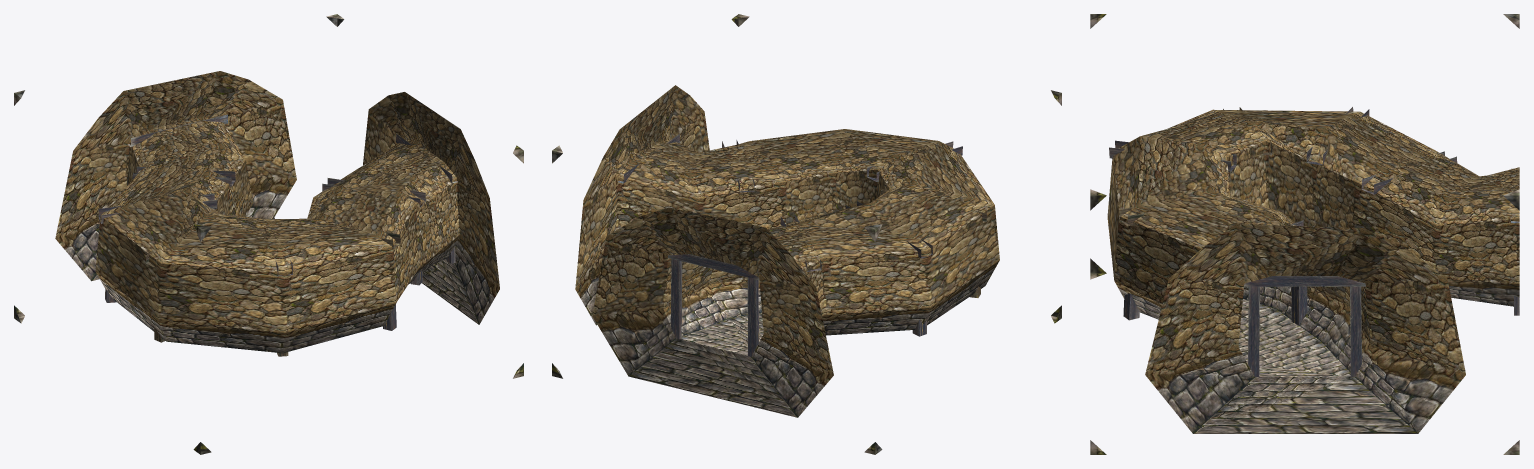
The model's file is Lbm_2k.glb.
3 renders of one model, left to right at view 1: azimuth 30°, elevation 25°; view 2: azimuth 150°, elevation 25°; view 3: azimuth 270°, elevation 25°, orthographic. The views are drawn at different scales.
Parts seen in each view (by area): view 1: Lbm_2k; view 2: Lbm_2k; view 3: Lbm_2k.
Boxes of the visible parts, bbox=[...] form: Lbm_2k: bbox=[14, 14, 523, 454]; Lbm_2k: bbox=[552, 14, 1061, 454]; Lbm_2k: bbox=[1090, 14, 1519, 454].
Size of the model in its own units: 15 by 10 by 15.
8 materials, 8 textured.
